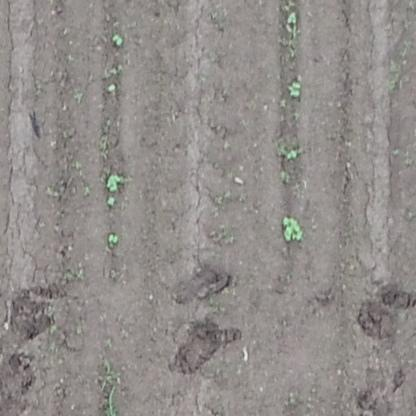vc: (281, 213, 304, 245), (284, 80, 306, 99), (105, 171, 124, 192), (105, 232, 126, 250), (286, 147, 301, 162), (111, 32, 125, 45), (285, 10, 298, 23), (107, 196, 119, 210), (106, 82, 118, 94)
